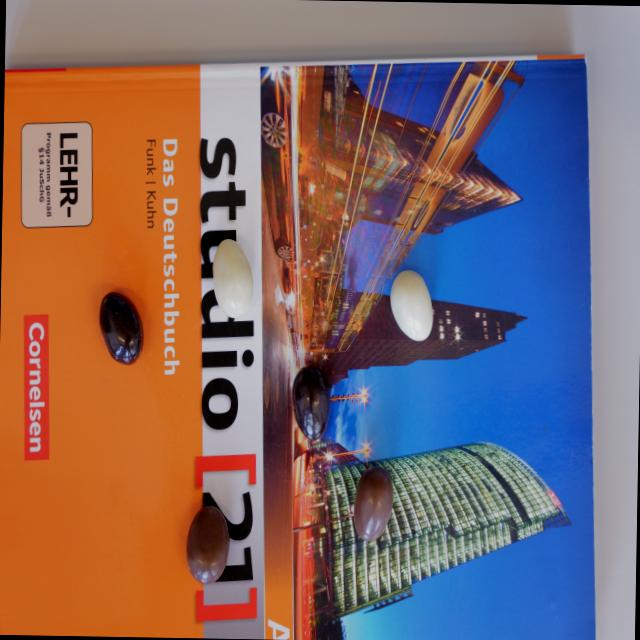Jelly_Black: (98, 290, 146, 366), (292, 367, 330, 443)
Jelly_Milk: (187, 505, 230, 583), (354, 466, 394, 539)
Jelly_White: (212, 237, 253, 318), (390, 269, 434, 342)
